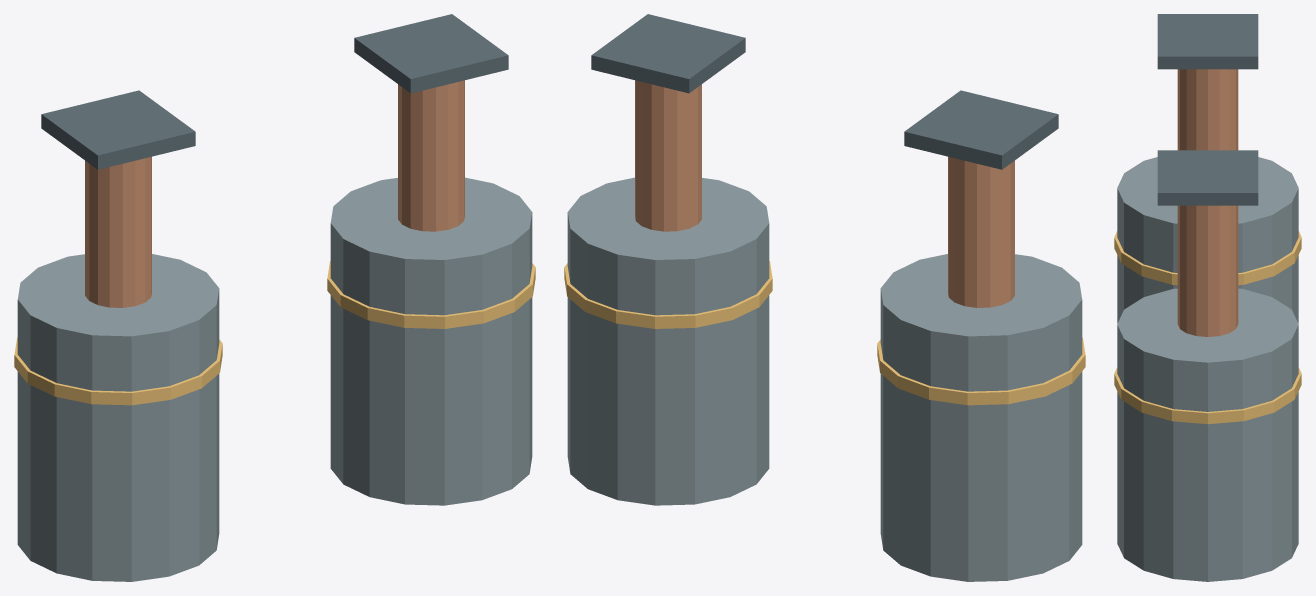
Rendered from UtilityYard.glb.
3 views of the same model, side by side, from view 1: azimuth 30°, elevation 25°; view 2: azimuth 150°, elevation 25°; view 3: azimuth 270°, elevation 25° (orthographic). The views are drawn at different scales.
Visible parts, largest first — view 1: UtilityYard_RecoveryTank; view 2: UtilityYard_RecoveryTank; view 3: UtilityYard_RecoveryTank.
Part boxes in pixels (left/top/right/bottom): UtilityYard_RecoveryTank: left=14, top=14, right=535, bottom=581; UtilityYard_RecoveryTank: left=564, top=14, right=1085, bottom=581; UtilityYard_RecoveryTank: left=1114, top=14, right=1301, bottom=581.
Size of the model in its own units: 25.3 by 20.35 by 9.3.
